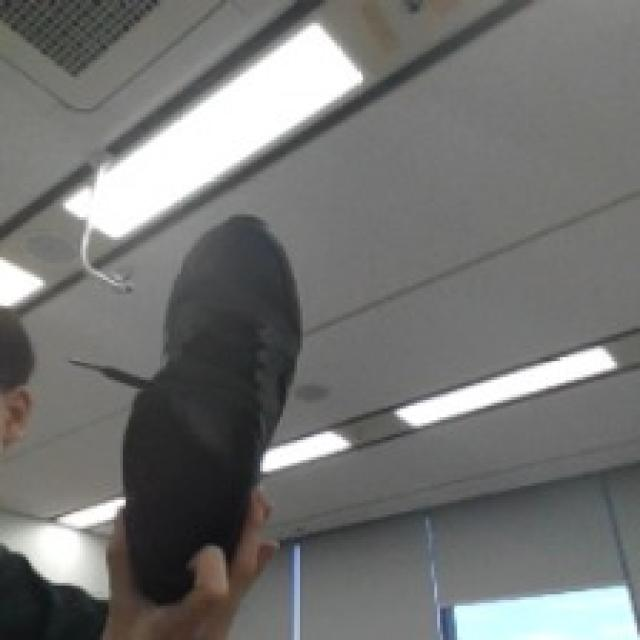shoe: (132, 148, 308, 622)
